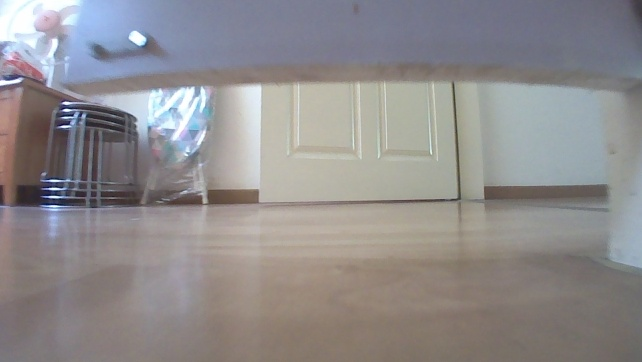metal_chair_foot: (29, 193, 138, 211)
